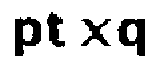p: (6, 15, 44, 60)
q: (117, 15, 148, 60)
t: (44, 11, 69, 52)
x: (77, 16, 112, 50)
